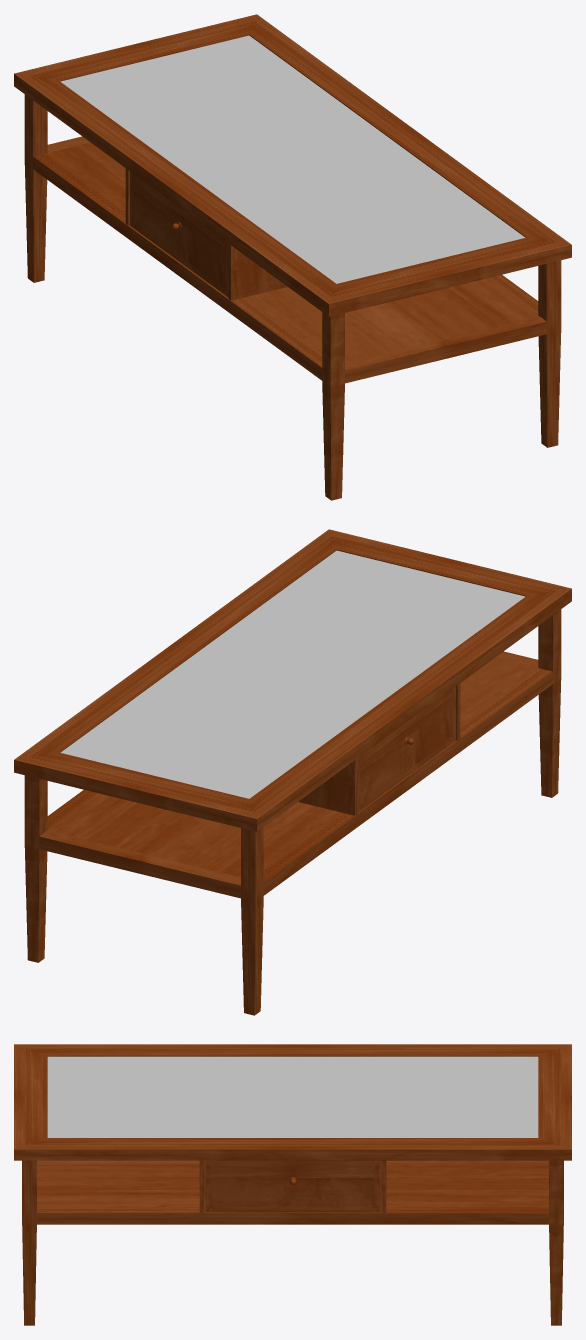
Rendered from saloon_table.obj.
The picture shows the model from 3 angles, top to bottom: view 1: azimuth 30°, elevation 25°; view 2: azimuth 150°, elevation 25°; view 3: azimuth 270°, elevation 25°; orthographic projection. The views are drawn at different scales.
Visible parts, largest first — view 1: table2_Cube.001, glass2_Cube; view 2: table2_Cube.001, glass2_Cube; view 3: table2_Cube.001, glass2_Cube.
Part boxes in pixels (x1=…): table2_Cube.001: x1=14, y1=14, x2=571, y2=500; glass2_Cube: x1=60, y1=35, x2=525, y2=283; table2_Cube.001: x1=14, y1=529, x2=571, y2=1015; glass2_Cube: x1=60, y1=550, x2=525, y2=798; table2_Cube.001: x1=14, y1=1044, x2=571, y2=1325; glass2_Cube: x1=47, y1=1056, x2=538, y2=1137.
Size of the model in its own units: 0.6416 by 0.5113 by 1.44.
